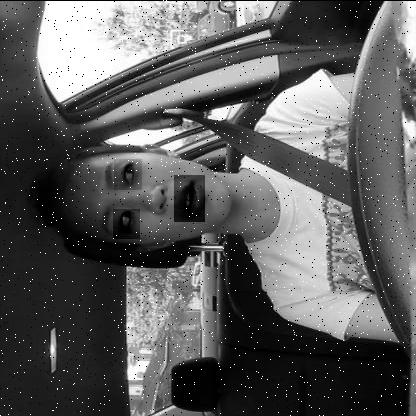seatbelt: (31, 129, 347, 265)
